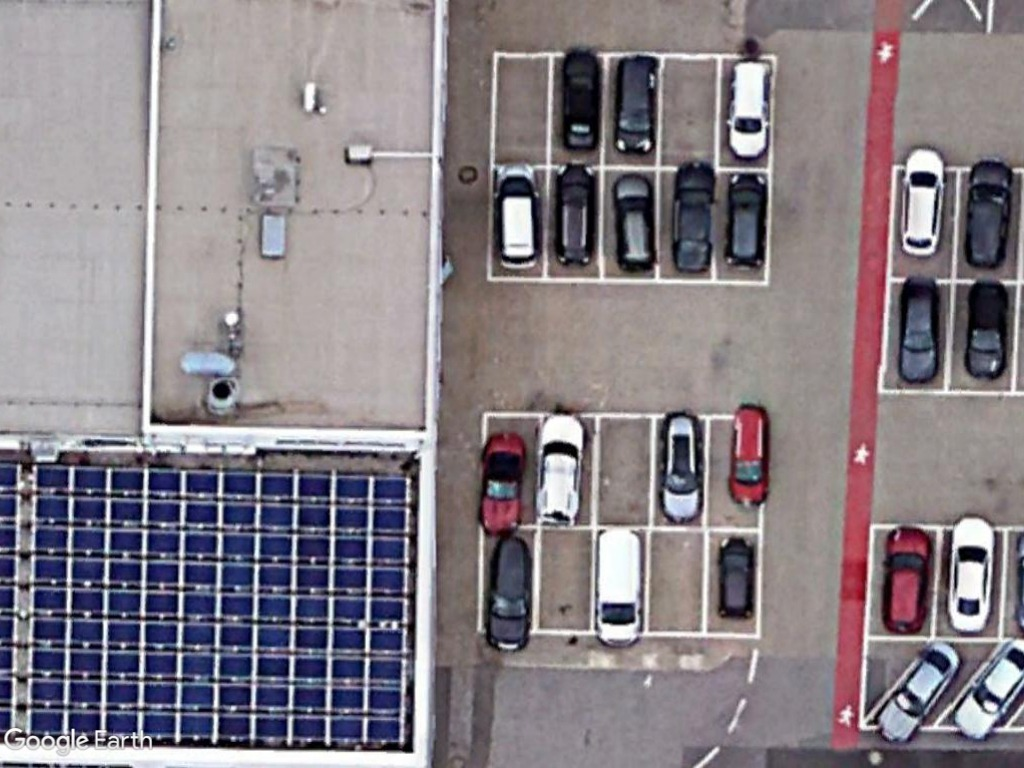car: (866, 634, 962, 743), (945, 626, 1024, 747), (937, 507, 1005, 637), (532, 411, 596, 530), (484, 151, 544, 275), (959, 151, 1018, 277), (651, 408, 712, 527), (662, 151, 721, 273), (473, 425, 536, 538), (483, 530, 539, 657), (894, 138, 950, 263), (719, 57, 780, 163), (880, 521, 935, 637), (552, 41, 608, 154), (546, 154, 599, 273), (610, 48, 665, 161), (959, 270, 1012, 386), (896, 267, 945, 388), (609, 169, 664, 276), (722, 401, 773, 512), (722, 164, 770, 275), (712, 530, 761, 624)
van: (590, 521, 649, 653)
